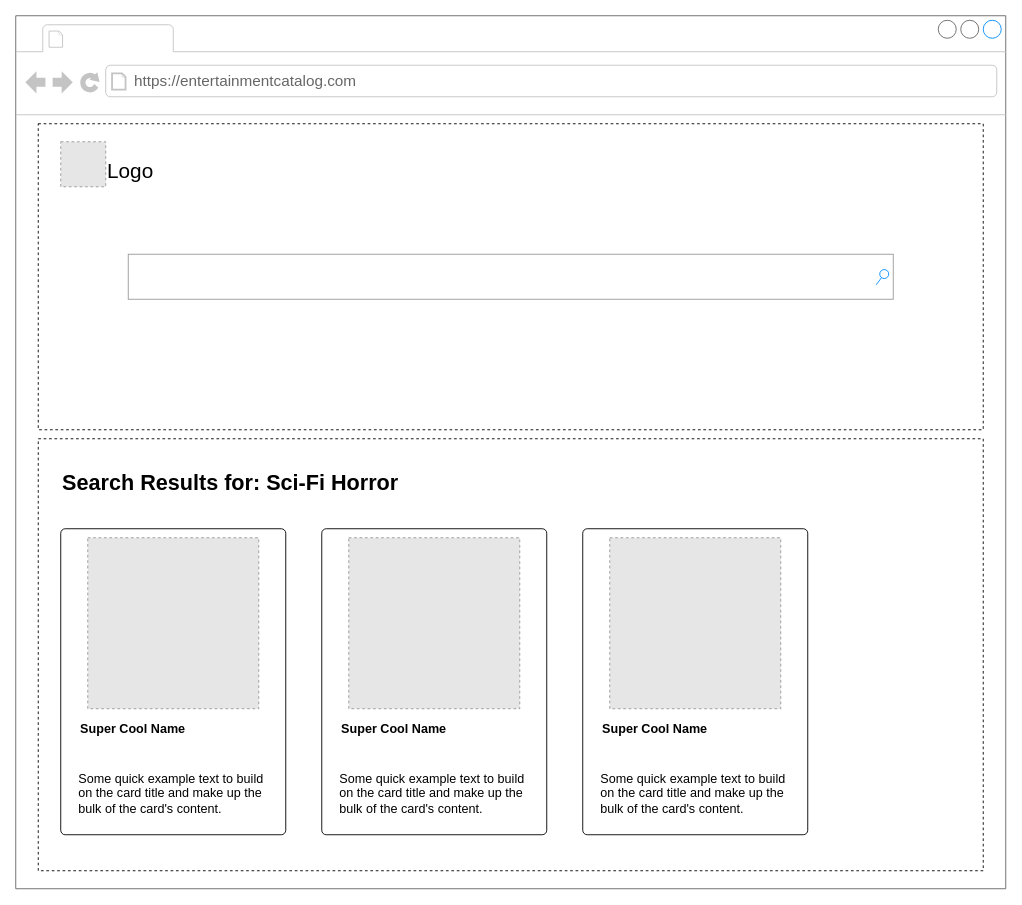
Image size: 1022x905. Some labels were removed from this diagram. Grey dashed boxes stand in for pictures. Here are the shapes that lost their labels. From the top down, the centre of each, then its label:
point 119,38: Catalog
point 510,276: Category, name, release date, cast member's name or company name
